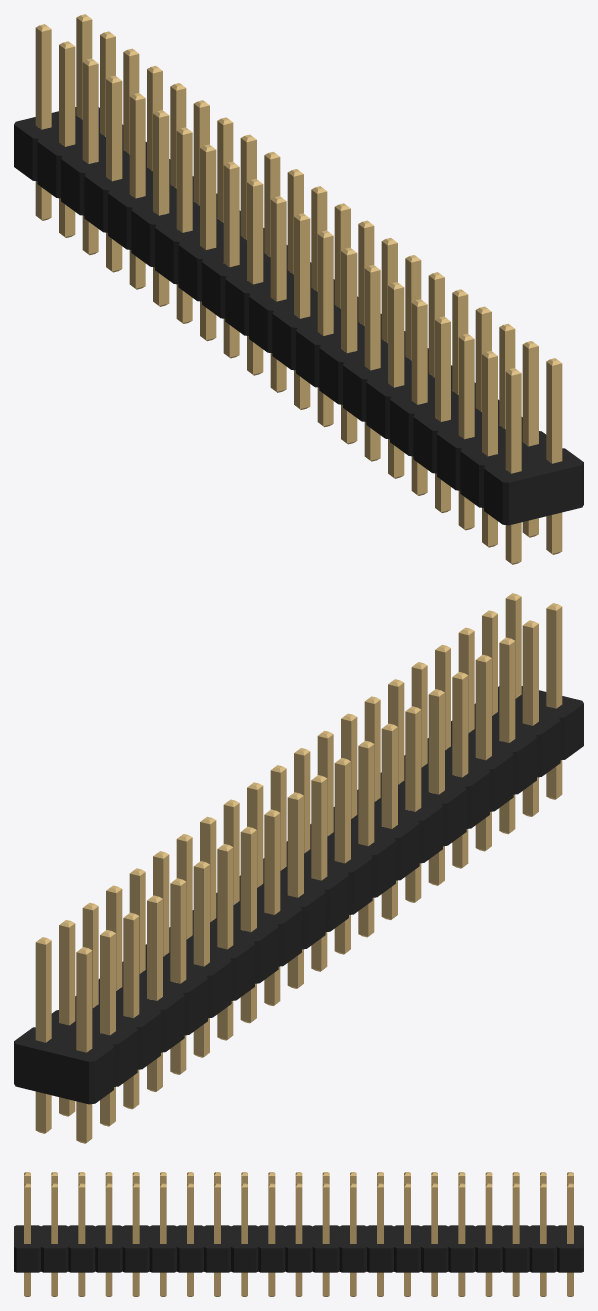
Rendered from kc-pinheader_2x21_p2.54mm_vertical.glb.
3 views of the same model, one above another, from view 1: azimuth 30°, elevation 25°; view 2: azimuth 150°, elevation 25°; view 3: azimuth 270°, elevation 25° (orthographic). The views are drawn at different scales.
Visible parts, largest first — view 1: 0.75_0.5_0.25_0.9, 0_0_0_0; view 2: 0.75_0.5_0.25_0.9, 0_0_0_0; view 3: 0_0_0_0, 0.75_0.5_0.25_0.9.
Part boxes in pixels (left/top/right/bottom): 0.75_0.5_0.25_0.9: left=35, top=14, right=562, bottom=564; 0_0_0_0: left=14, top=107, right=583, bottom=525; 0.75_0.5_0.25_0.9: left=35, top=593, right=562, bottom=1143; 0_0_0_0: left=14, top=686, right=583, bottom=1104; 0_0_0_0: left=14, top=1225, right=583, bottom=1272; 0.75_0.5_0.25_0.9: left=24, top=1172, right=573, bottom=1296.
Size of the model in its own units: 0.5079 by 1.15 by 5.33.
